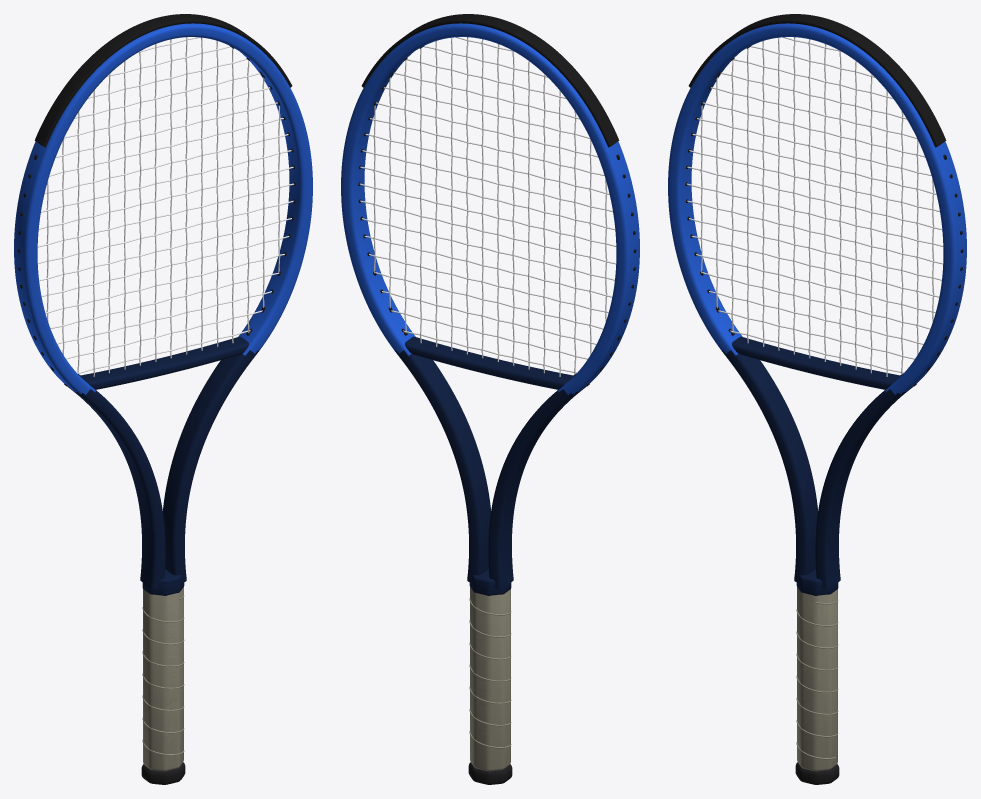
The model's file is babolat-pure-drive-2025.glb.
3 renders of one model, left to right at view 1: azimuth 30°, elevation 25°; view 2: azimuth 150°, elevation 25°; view 3: azimuth 330°, elevation 25°, orthographic.
Visible parts, largest first — view 1: Frame, Strings, Handle, Bumper, Yoke, GripSeam, ButtCap, Collar; view 2: Frame, Strings, Handle, Bumper, Yoke, GripSeam, ButtCap, Collar; view 3: Frame, Strings, Handle, Bumper, Yoke, GripSeam, ButtCap, Collar.
Part boxes in pixels (x1,y1,x2,y2): Frame: (14, 23, 312, 588); Strings: (37, 37, 294, 376); Handle: (143, 587, 183, 771); Bumper: (34, 14, 292, 147); Yoke: (80, 336, 248, 389); GripSeam: (142, 595, 184, 755); ButtCap: (141, 762, 185, 784); Collar: (142, 569, 184, 595); Frame: (341, 23, 639, 588); Strings: (359, 37, 616, 376); Handle: (470, 587, 510, 771); Bumper: (361, 14, 619, 147); Yoke: (405, 336, 573, 389); GripSeam: (469, 598, 511, 748); ButtCap: (468, 762, 512, 784); Collar: (469, 569, 511, 595); Frame: (668, 23, 966, 588); Strings: (686, 37, 943, 376); Handle: (797, 587, 837, 771); Bumper: (688, 14, 946, 147); Yoke: (732, 336, 900, 389); GripSeam: (796, 600, 838, 759); ButtCap: (795, 762, 839, 784); Collar: (796, 569, 838, 595).
Size of the model in its own units: 0.2758 by 0.6886 by 0.0327.
6 materials, 1 textured.
